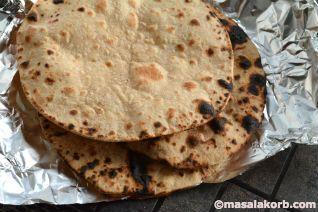roti phulka: (1, 0, 267, 197)
